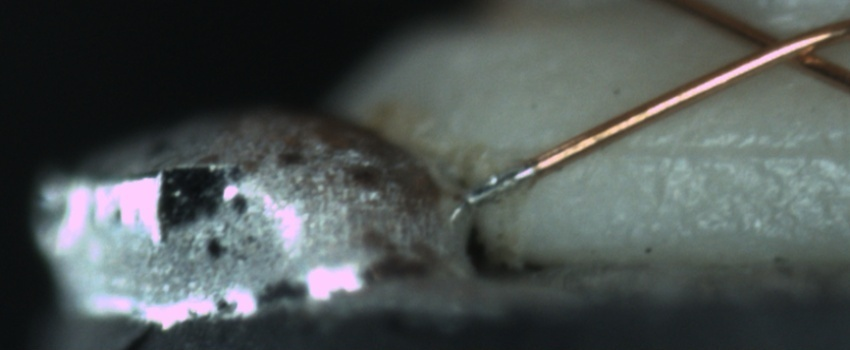CL: (716, 13, 844, 78)
DL: (611, 116, 844, 186)
TS: (461, 163, 533, 214)
